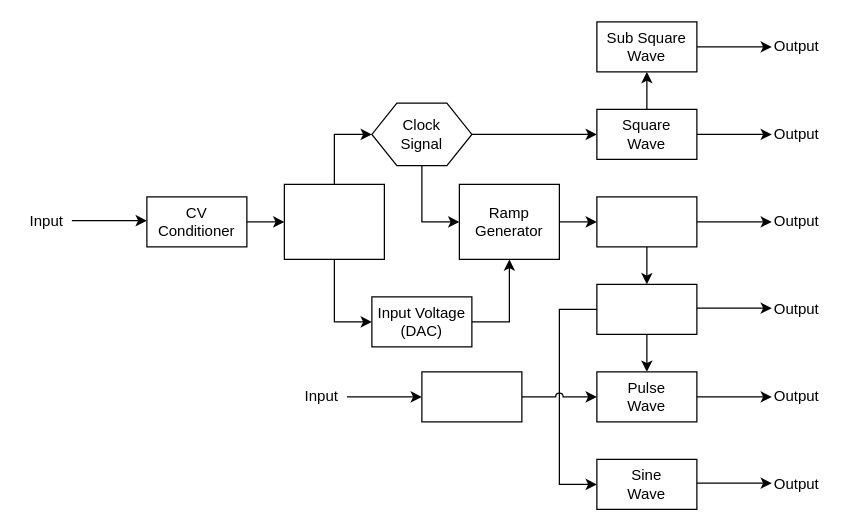
The diagram is 843 pixels wide and 531 high, and some of its shapes have lost their labels. Here are the shapes that lost their labels. From the top down, the box of each, then its label:
(283, 183, 384, 259): Micro Controller
(596, 196, 697, 247): Saw Wave
(596, 283, 697, 334): Triangle Wave
(421, 371, 522, 422): PWM
